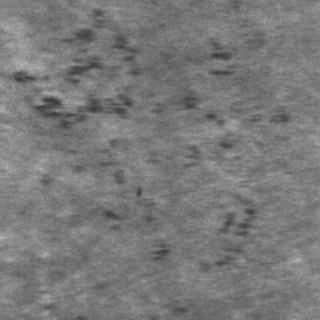rolled pit: (167, 34, 269, 278), (6, 4, 142, 124), (69, 182, 177, 262)
